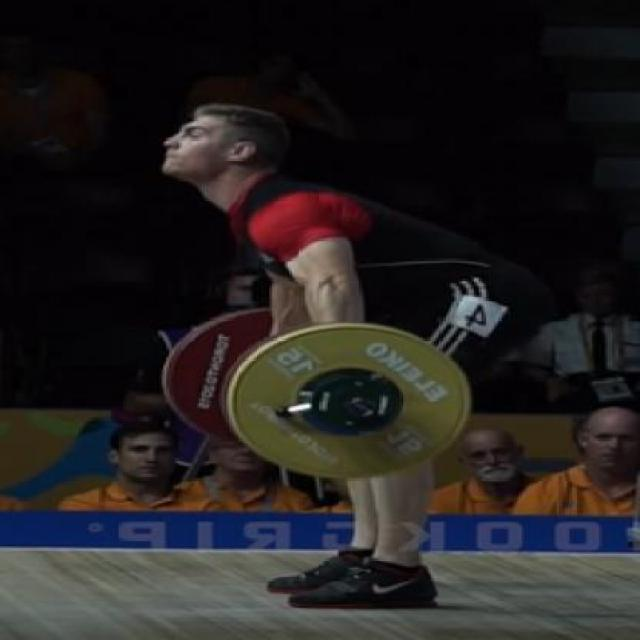Barbell: (339, 396, 381, 424)
